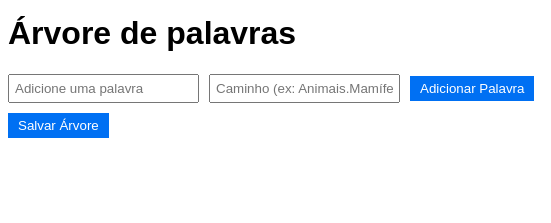
Scenario: HierarchyTree Component › should add nodes and render the hierarchy correctly
Adiciona uma palavra no nível raiz
Type "Animais" into the field with placeholder "Adicione uma palavra" at (104, 88), box [8, 74, 199, 103]
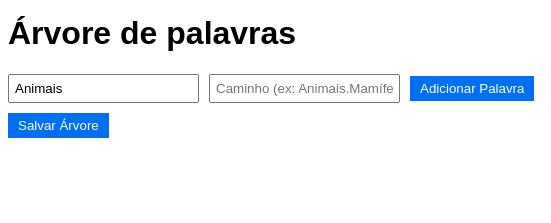
Click the button "Adicionar Palavra" at (472, 88), box [410, 76, 534, 101]
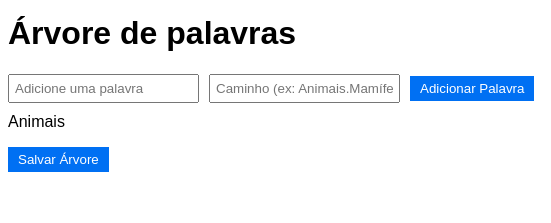
Now the text "Animais" is shown, box [8, 113, 65, 130]
Adiciona uma subcategoria
Type "Mamíferos" into the field with placeholder "Adicione uma palavra" at (104, 88), box [8, 74, 199, 103]
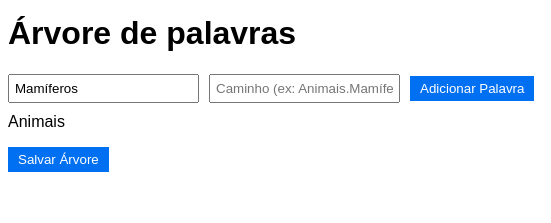
Type "Animais" into the field with placeholder "Caminho (ex: Animais.Mamíferos)" at (304, 88), box [209, 74, 400, 103]
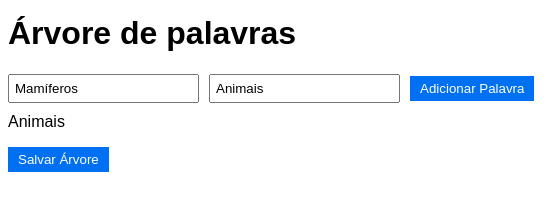
Click the button "Adicionar Palavra" at (472, 88), box [410, 76, 534, 101]
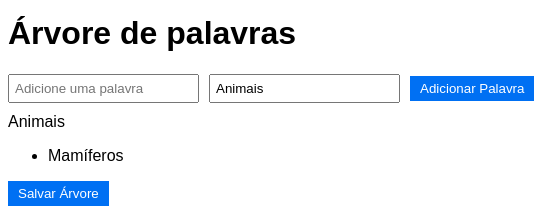
Now the list item "Mamíferos" is shown, box [48, 147, 124, 164]
